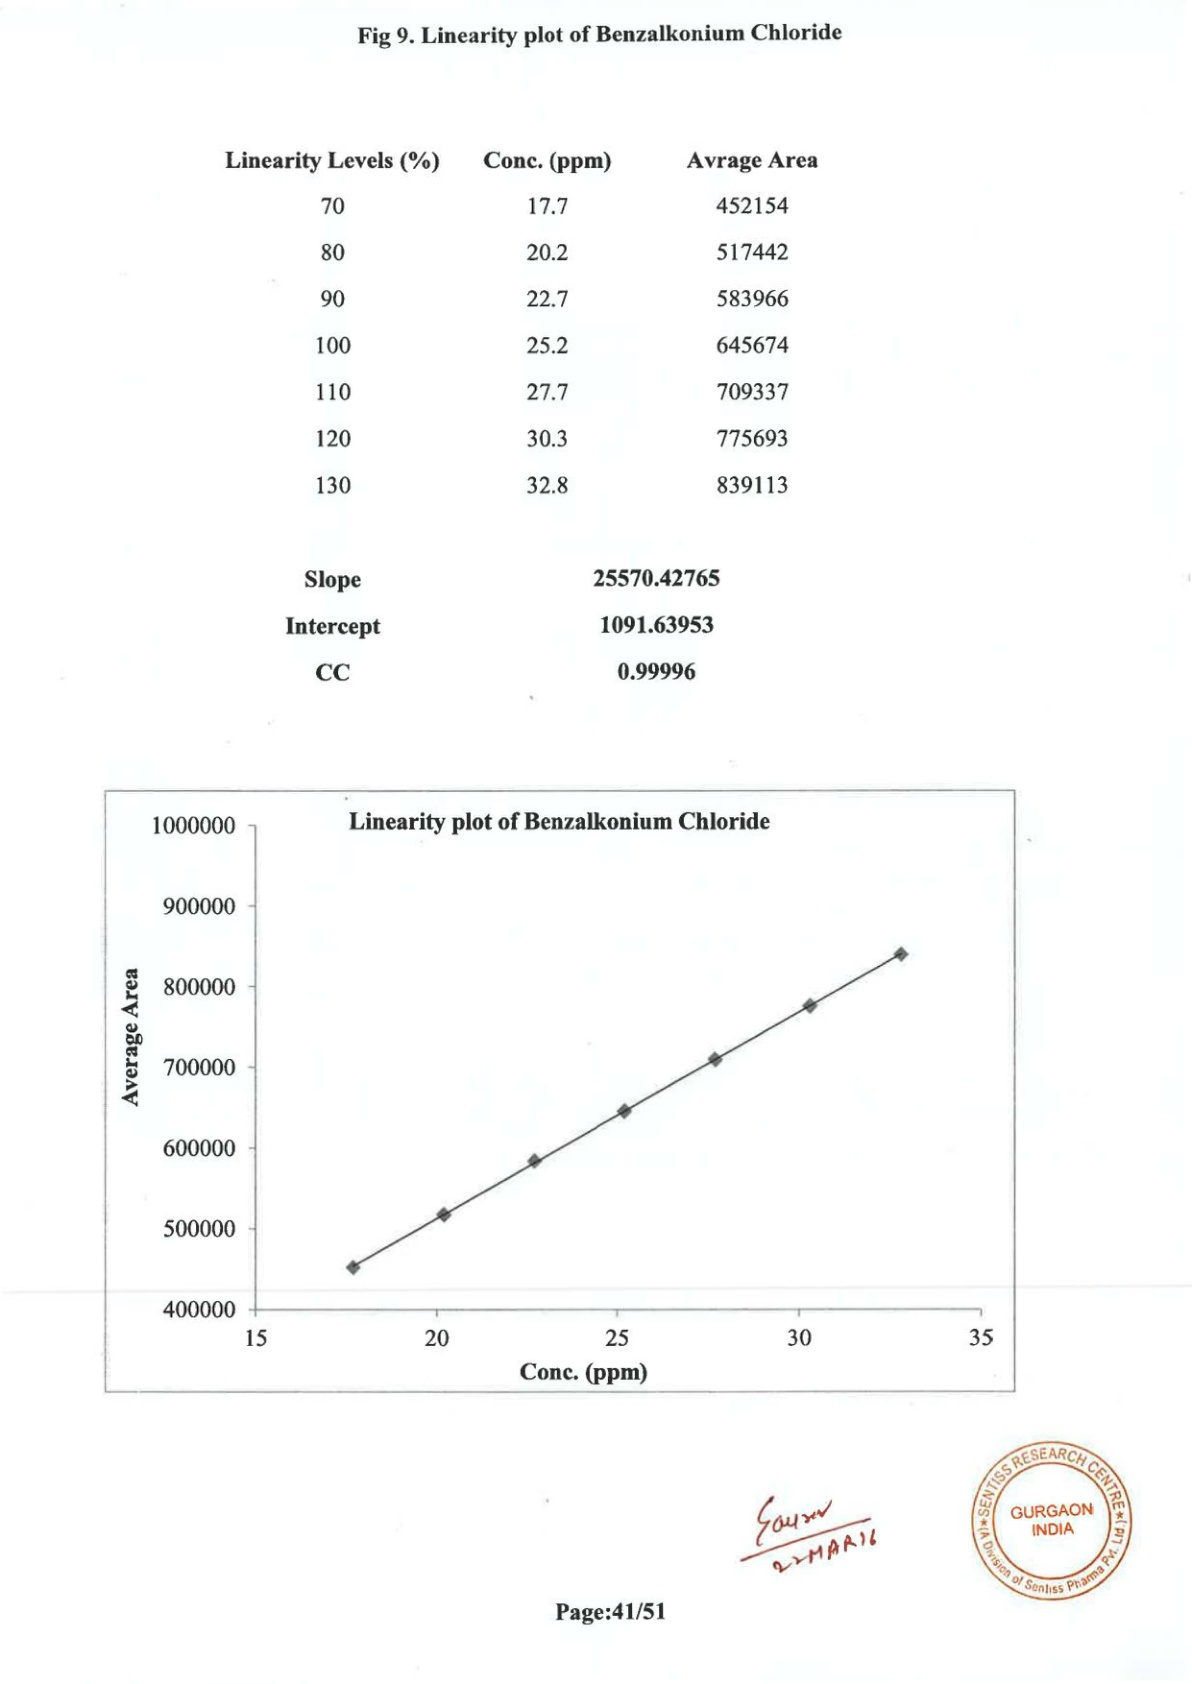nolines: (221, 147, 823, 500), (285, 561, 721, 683)
